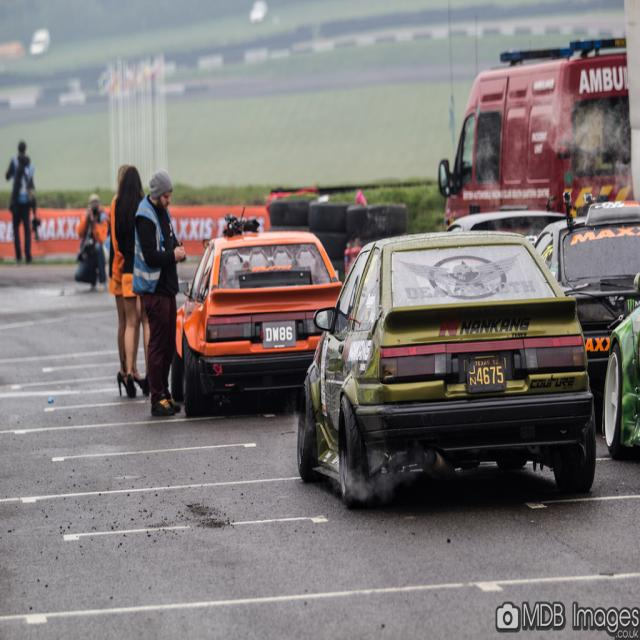car: (310, 221, 596, 507)
